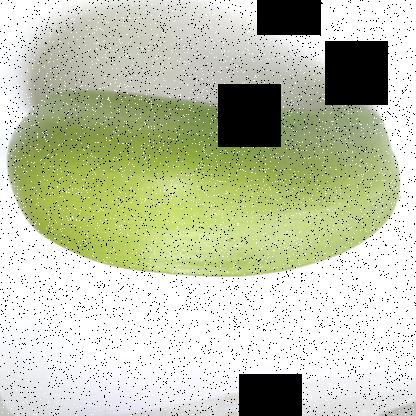freshunripe: (4, 84, 412, 290)
